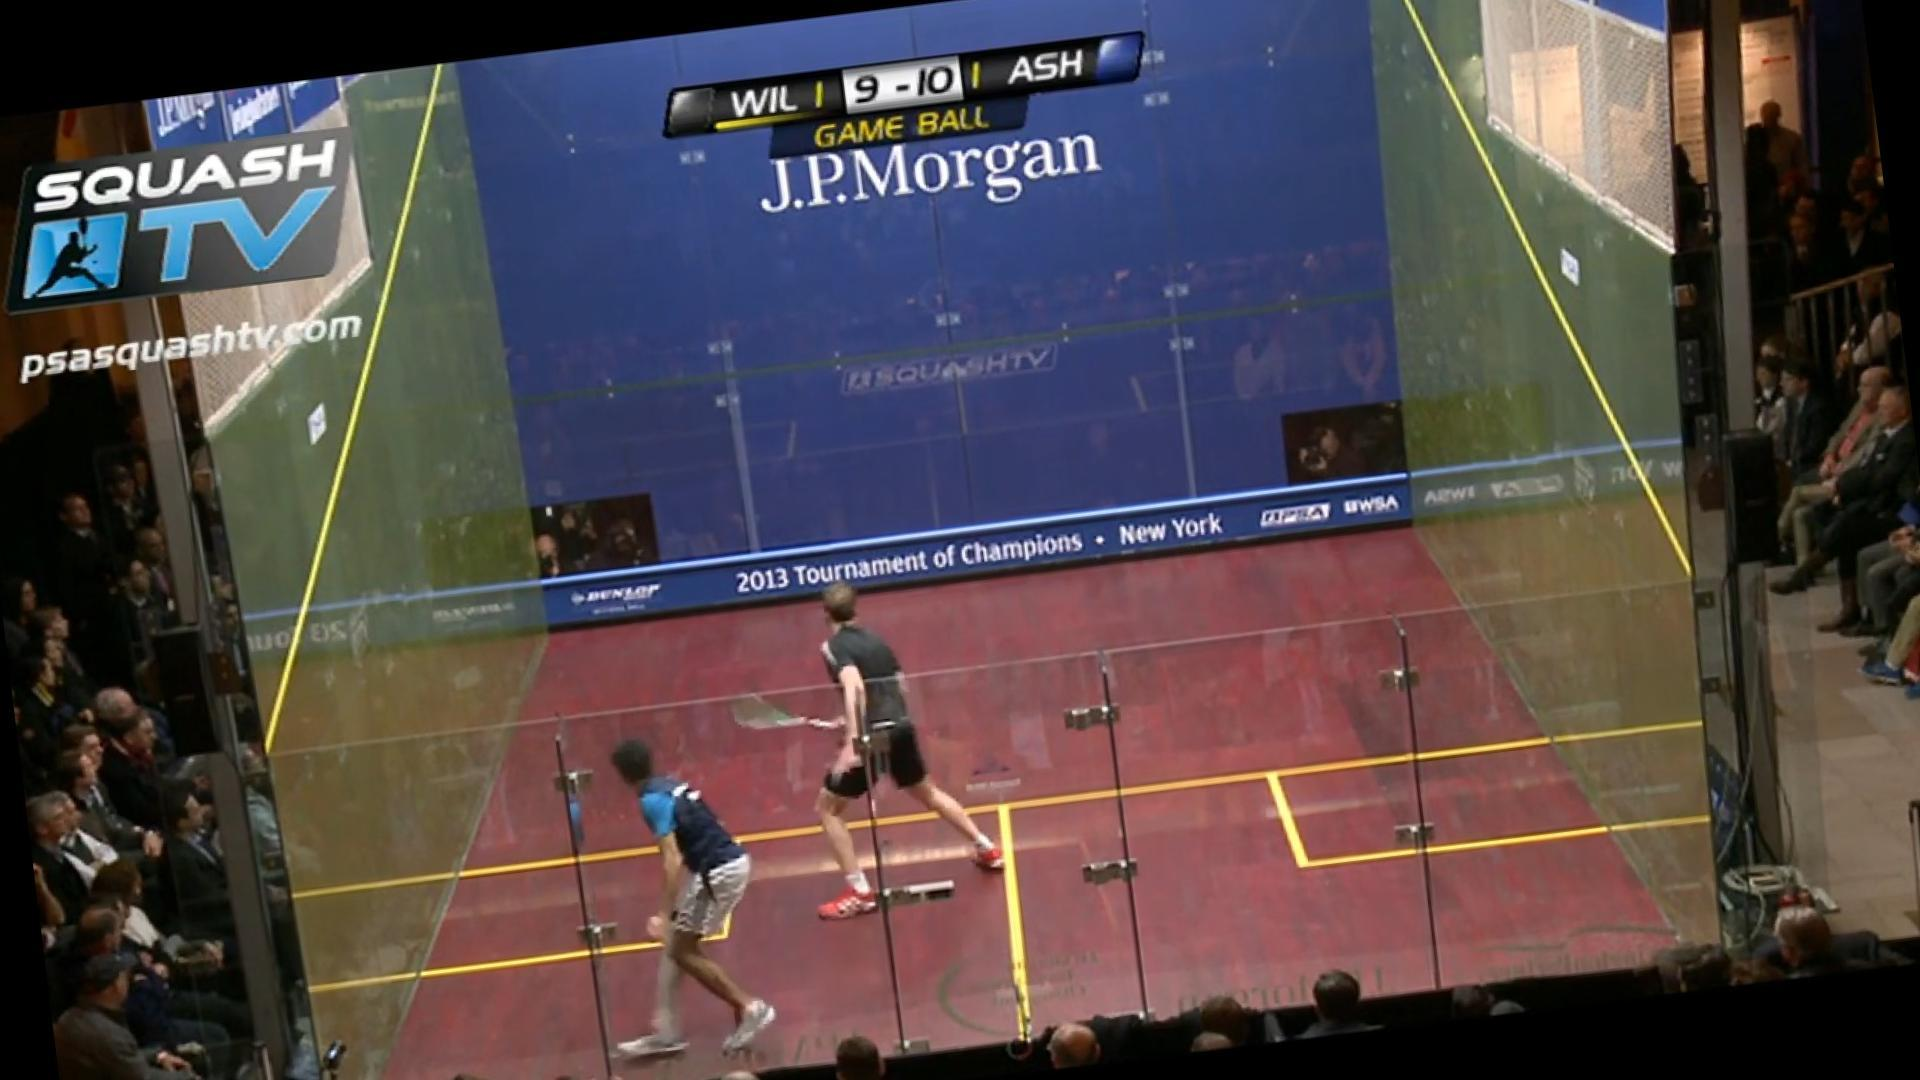Squash-Ball: (539, 497, 562, 527)
